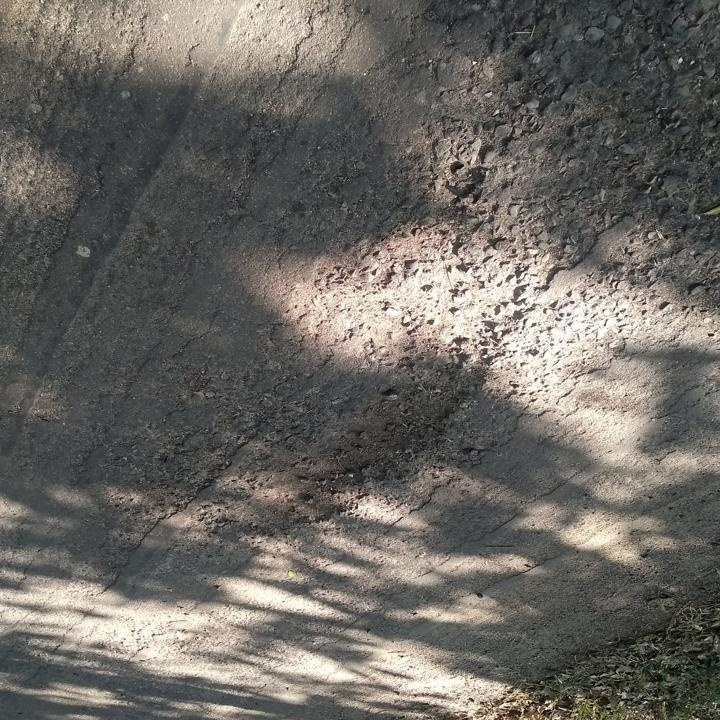pothole: (209, 347, 496, 534)
